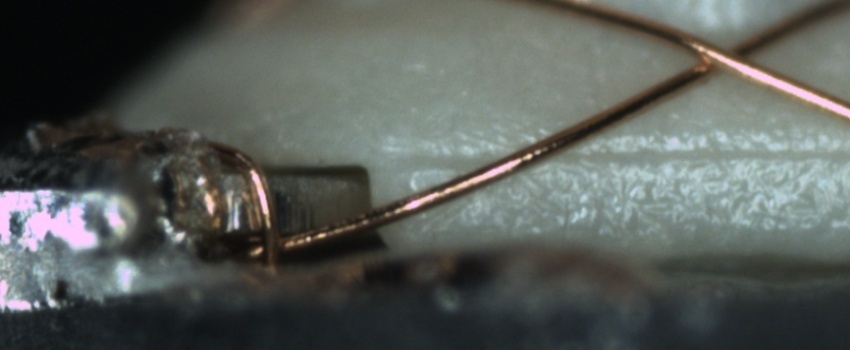CL: (674, 24, 779, 86)
DL: (391, 127, 849, 187)
TE: (180, 126, 290, 268)
